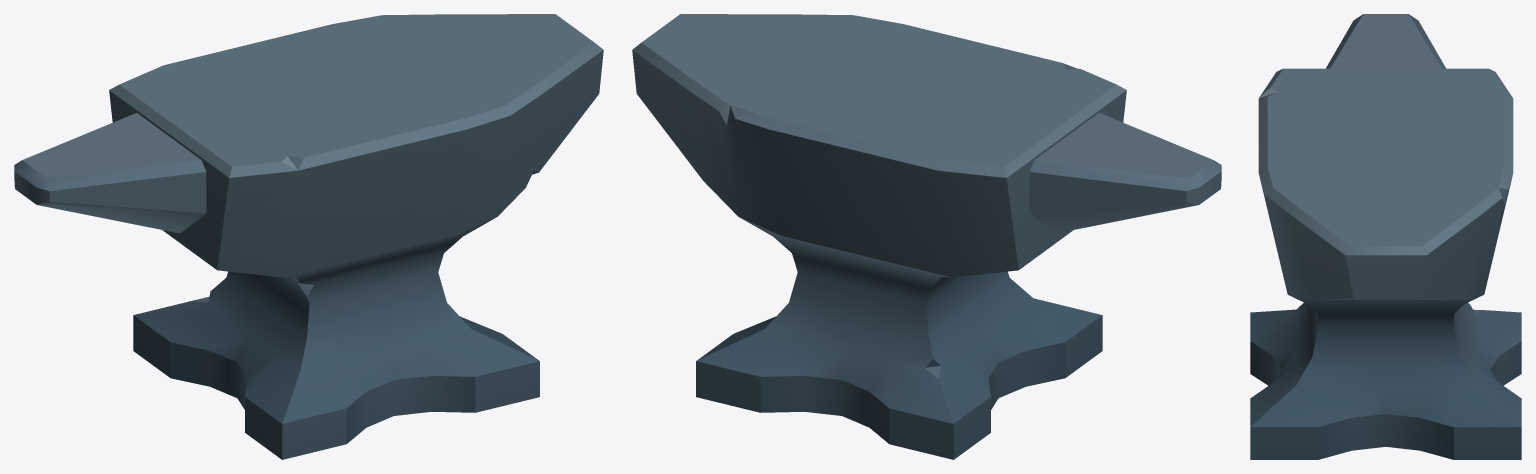
The model's file is anvil.glb.
3 views of the same model, side by side, from view 1: azimuth 30°, elevation 25°; view 2: azimuth 150°, elevation 25°; view 3: azimuth 270°, elevation 25° (orthographic). The views are drawn at different scales.
Visible parts, largest first — view 1: anvil; view 2: anvil; view 3: anvil.
Part boxes in pixels (box(x1,y1,x2,y2)): anvil: box(14, 14, 603, 459); anvil: box(632, 14, 1221, 459); anvil: box(1250, 14, 1521, 459).
Bounding box in the file's own units: 1.62 × 0.8 × 0.75.
1 material, 1 textured.
